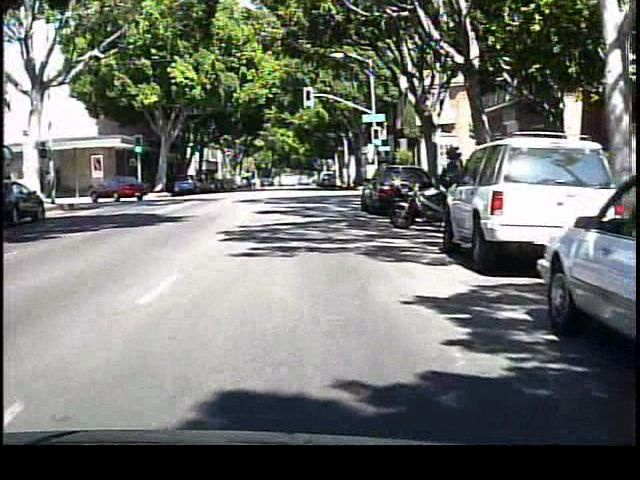person: (438, 134, 477, 238)
